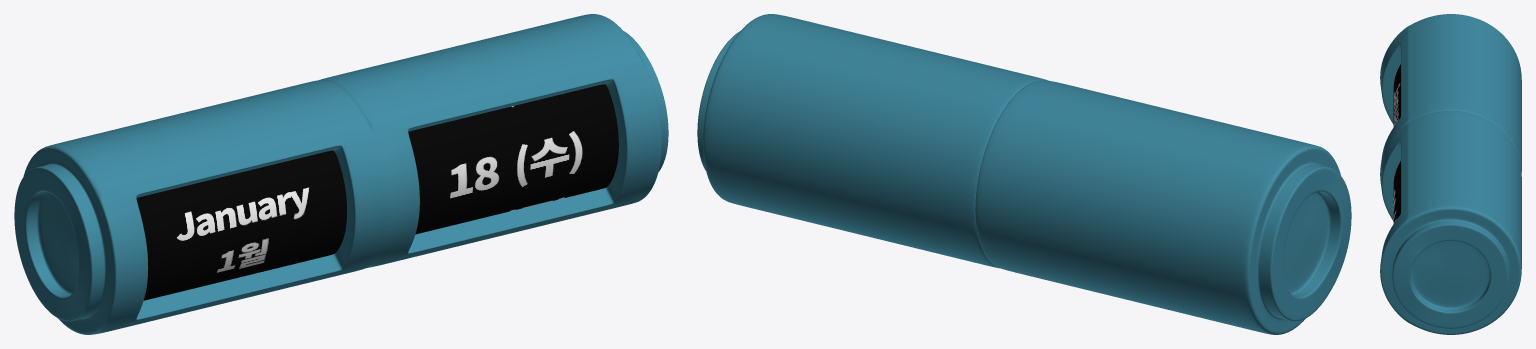
Rendered from DateAndMonth_UI.fbx.
The picture shows the model from 3 angles, left to right: view 1: azimuth 30°, elevation 25°; view 2: azimuth 150°, elevation 25°; view 3: azimuth 270°, elevation 25°; orthographic projection. The views are drawn at different scales.
Visible parts, largest first — view 1: Month_UI_Base, Date_UI_Base, Date_UI_Inside, Month_UI_Inside; view 2: Month_UI_Base, Date_UI_Base; view 3: Date_UI_Base, Month_UI_Base, Date_UI_Inside, Month_UI_Inside.
Part boxes in pixels (left/top/right/bottom): Month_UI_Base: left=14, top=80, right=388, bottom=334; Date_UI_Base: left=319, top=14, right=668, bottom=267; Date_UI_Inside: left=408, top=84, right=618, bottom=234; Month_UI_Inside: left=136, top=150, right=346, bottom=300; Month_UI_Base: left=975, top=80, right=1351, bottom=334; Date_UI_Base: left=697, top=14, right=1047, bottom=268; Date_UI_Base: left=1380, top=110, right=1521, bottom=334; Month_UI_Base: left=1380, top=14, right=1521, bottom=171; Date_UI_Inside: left=1393, top=161, right=1400, bottom=223; Month_UI_Inside: left=1393, top=64, right=1400, bottom=126.
Size of the model in its own units: 85.1 by 24.71 by 24.68.
